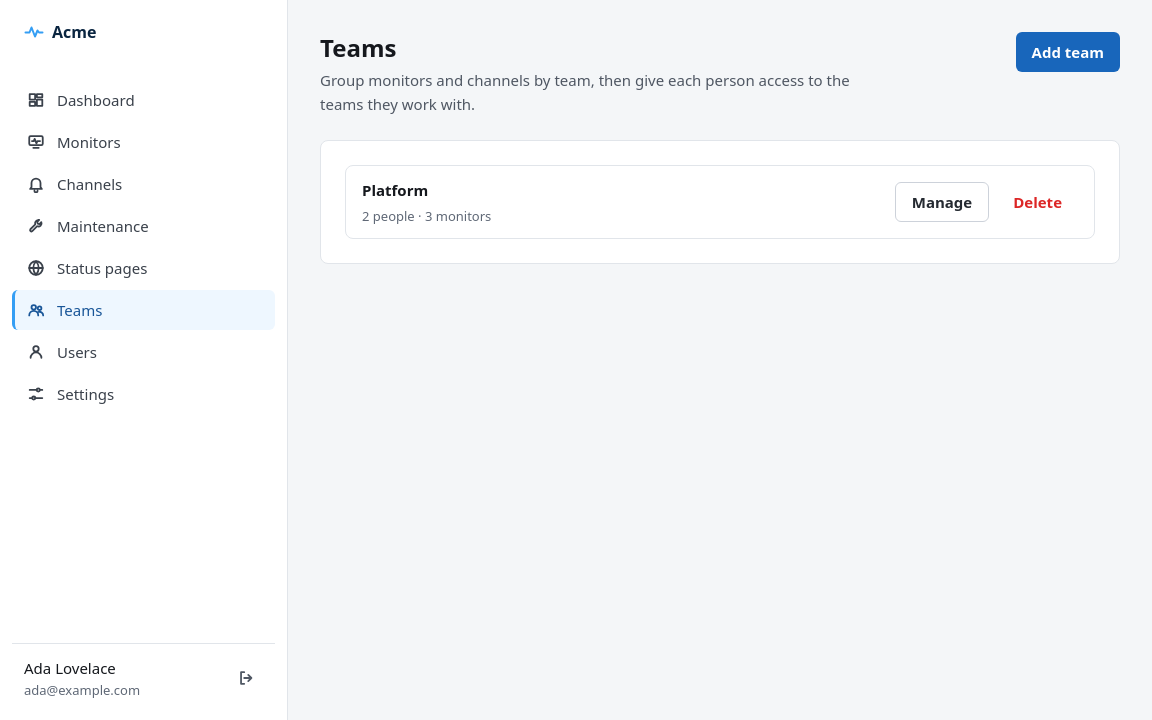
Test: Teams pages › deletes a team after confirmation
Click the button with aria-label "Delete: Platform". click: (1038,202)
box: [997,182,1078,222]
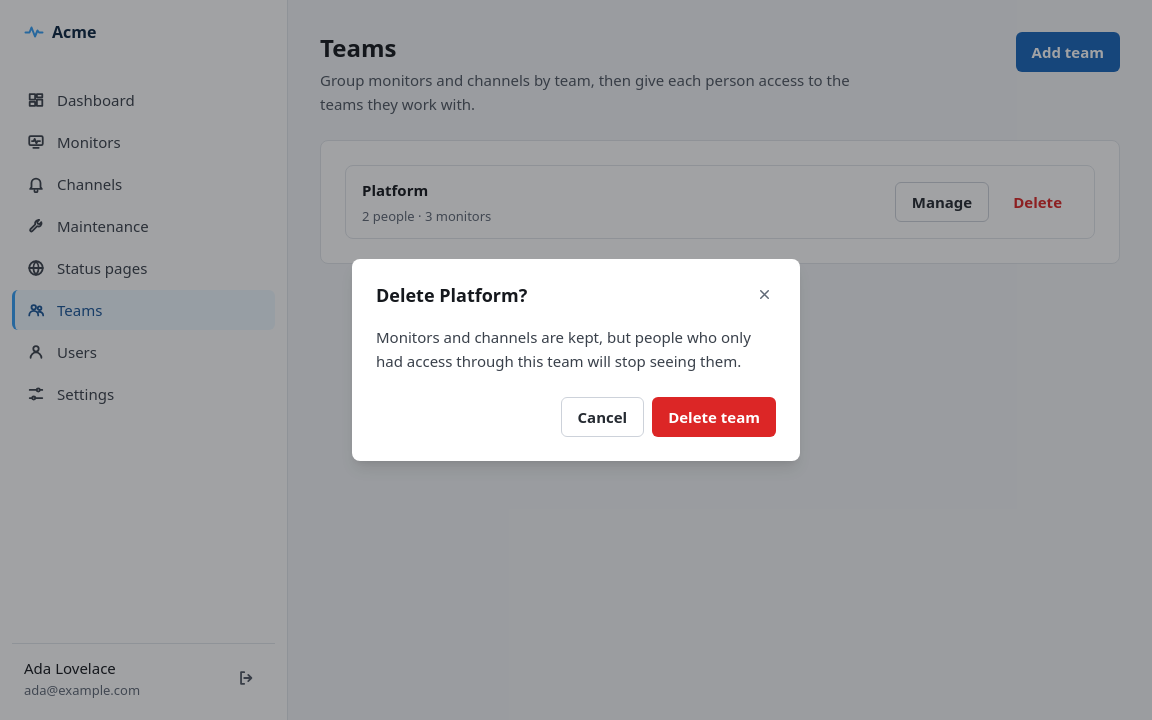
Click the button "Delete team". click: (714,417)
box: [652,397,776,437]
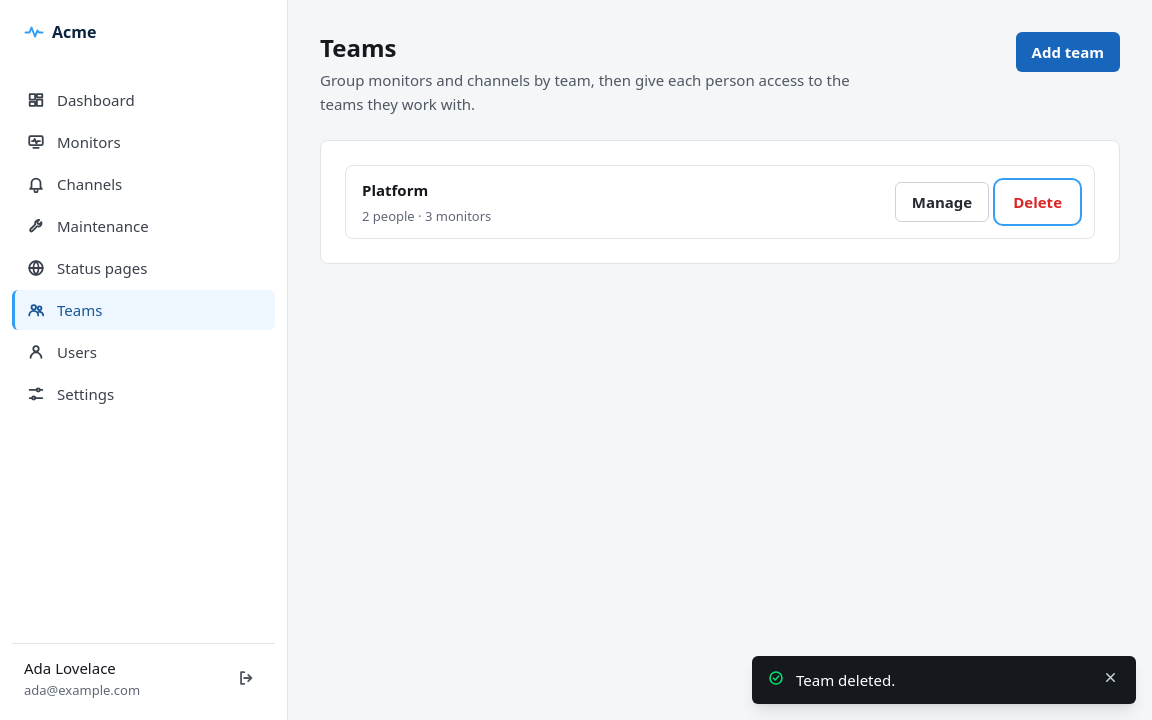
Check: the text "Team deleted." is shown, box [796,670,895,690]
